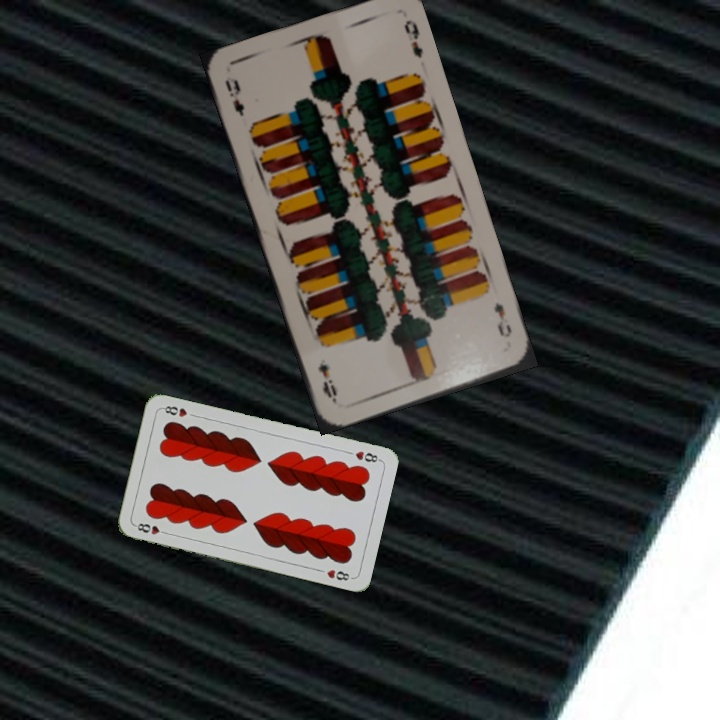E9: (220, 75, 247, 119), (490, 297, 515, 340)
H8: (131, 519, 171, 537), (351, 447, 383, 465)
